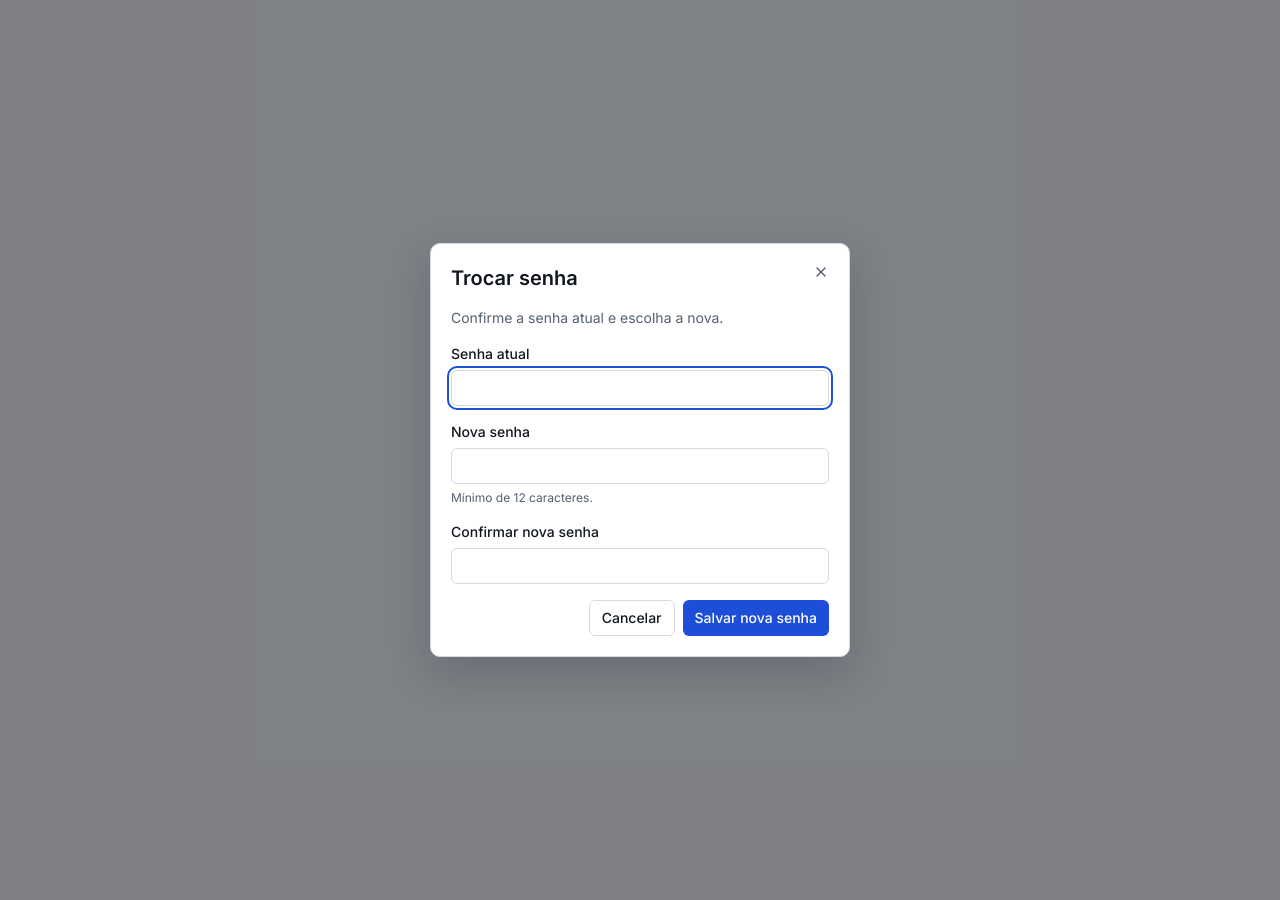
Scenario: ChangePasswordDialog › confirma a troca quando a API aceita
Type "ana.logos2026" into the password field labelled "Senha atual" at (640, 388), box [451,370,829,406]
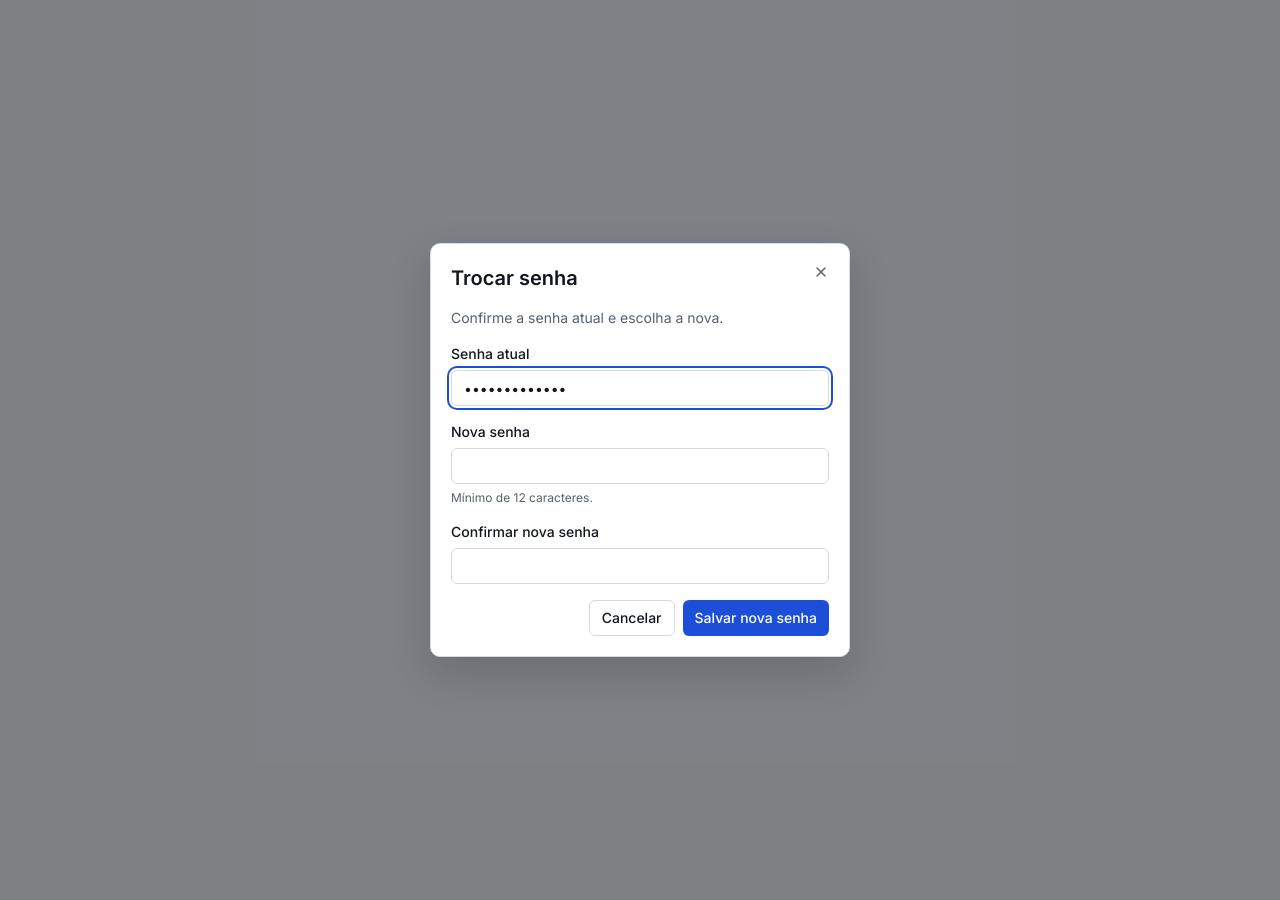
Type "senha-nova-2026" into the password field labelled "Nova senha" at (640, 466), box [451,448,829,484]
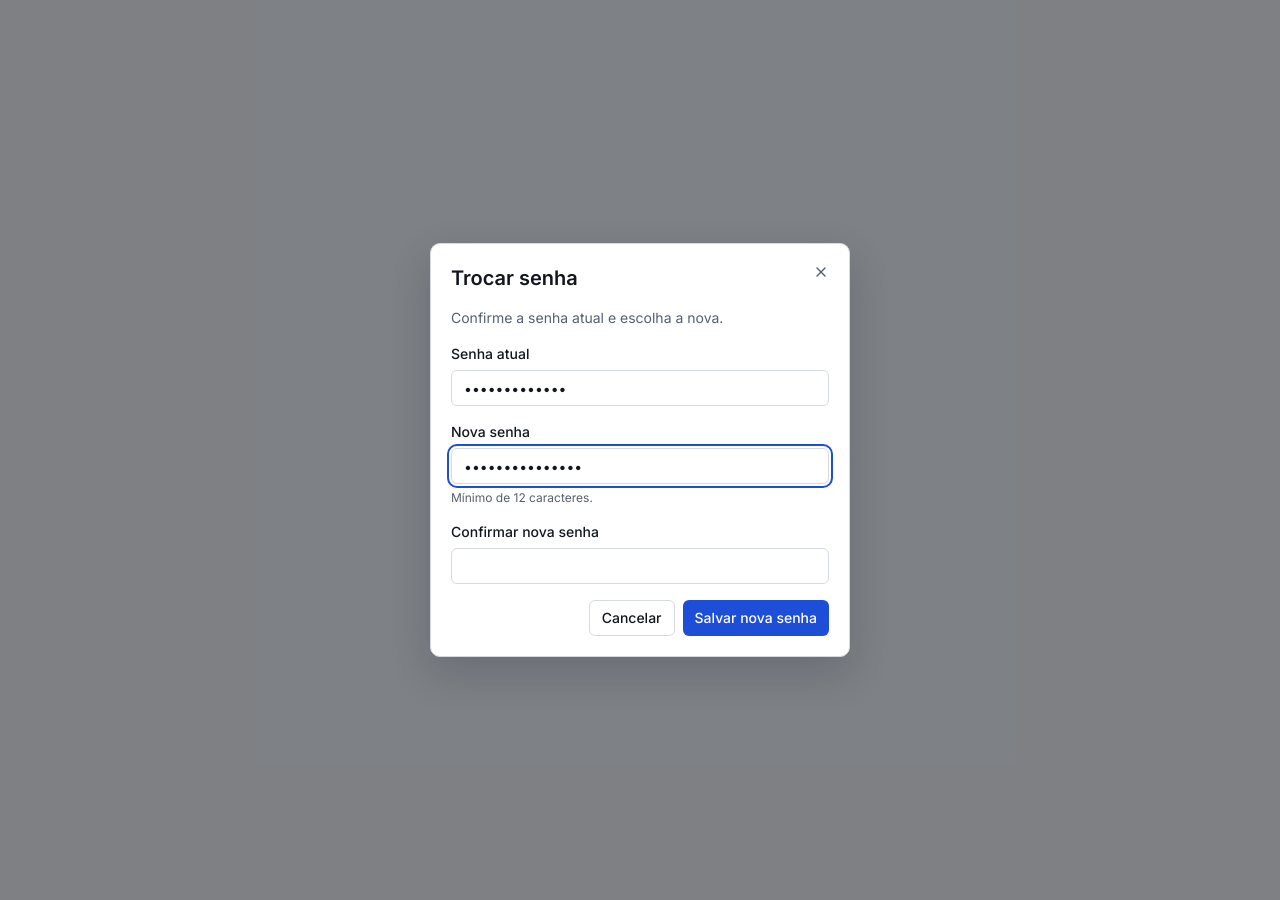
Type "senha-nova-2026" into the password field labelled "Confirmar nova senha" at (640, 566), box [451,548,829,584]
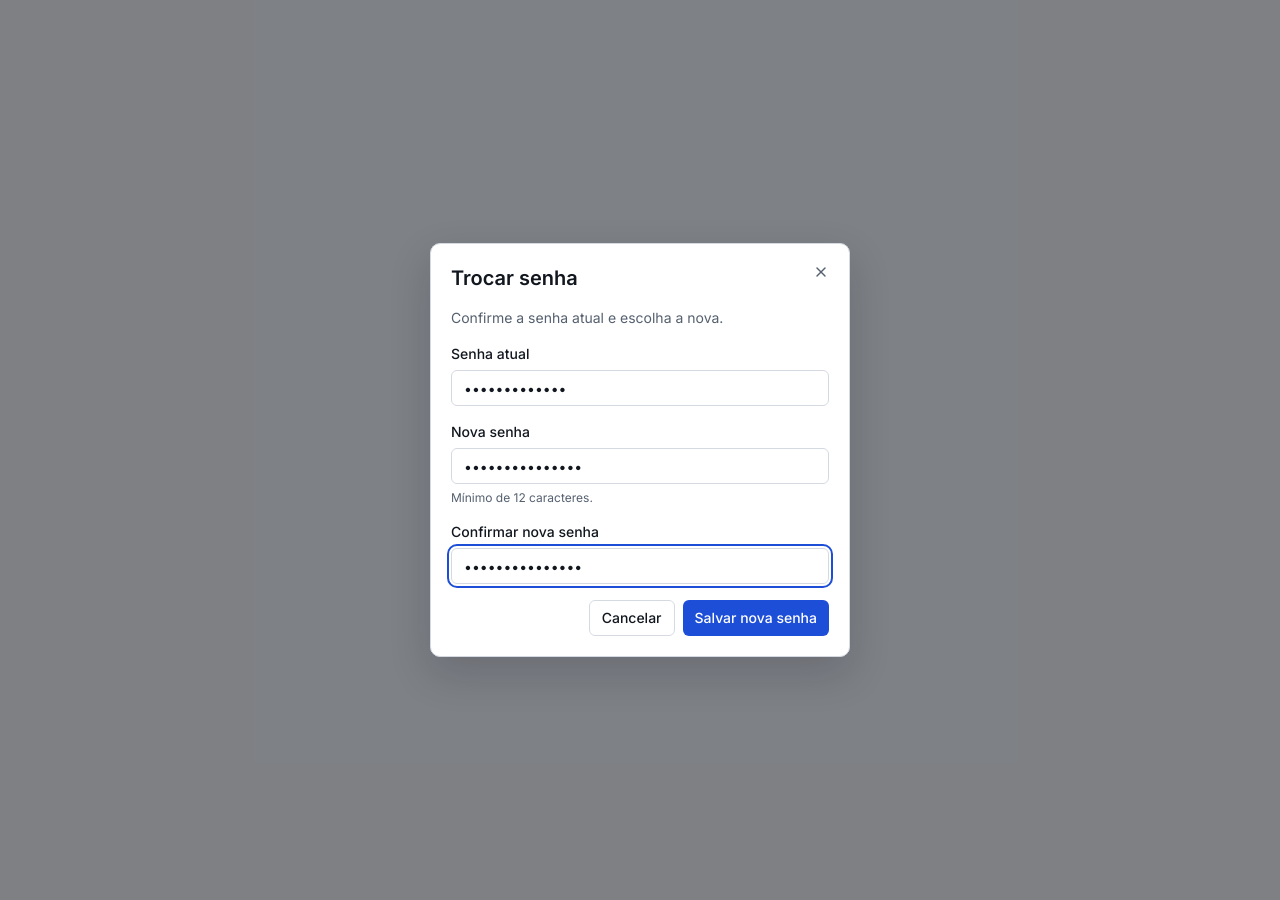
Click the button "Salvar nova senha" at (756, 618), box [682,600,829,636]
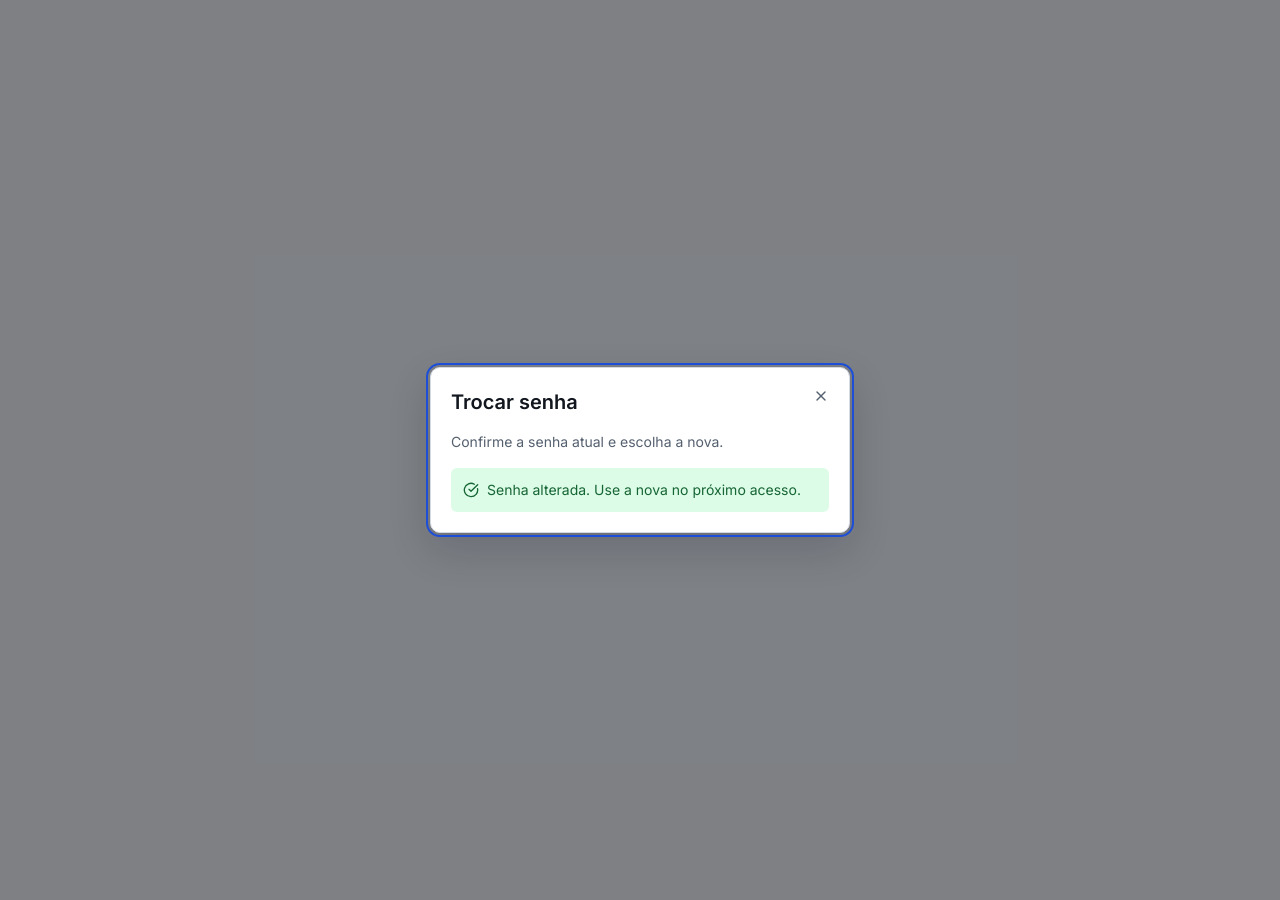
expect the text "Senha alterada. Use a nova no próximo acesso." is shown: met, box [487,480,801,500]
